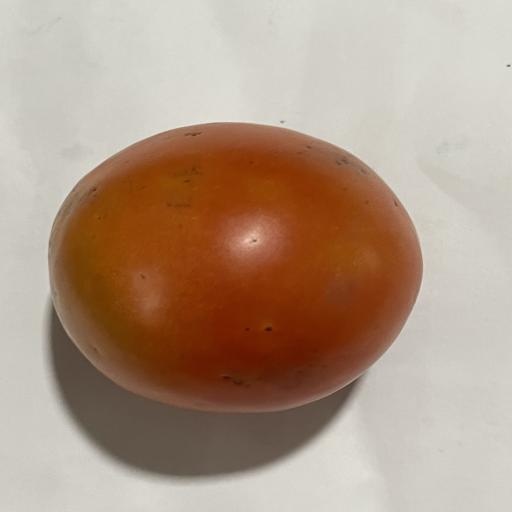unripe: (49, 123, 422, 413)
